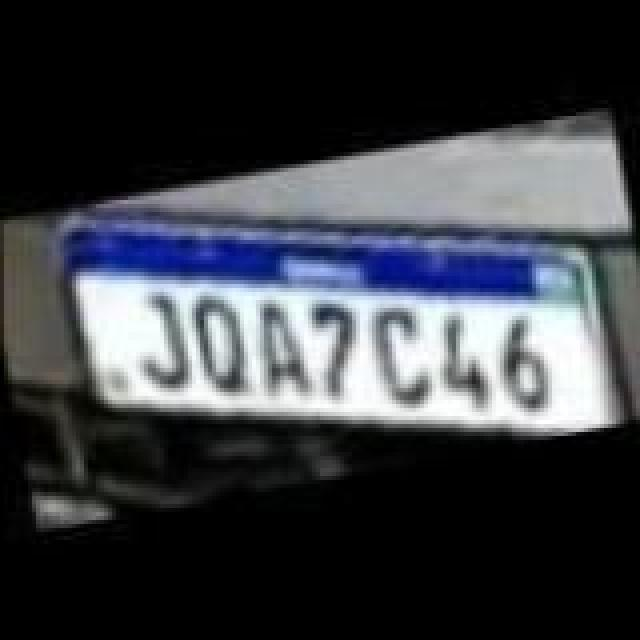4: (426, 308, 490, 420)
6: (488, 304, 556, 416)
7: (304, 292, 372, 400)
A: (248, 292, 316, 400)
C: (362, 298, 434, 414)
J: (128, 286, 196, 390)
Q: (184, 284, 252, 396)
